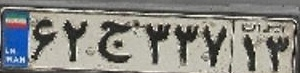character: (94, 18, 138, 67), (142, 17, 172, 69), (28, 15, 58, 64), (59, 16, 90, 63), (172, 19, 200, 70), (201, 21, 230, 69), (264, 33, 292, 73), (237, 31, 263, 73)
